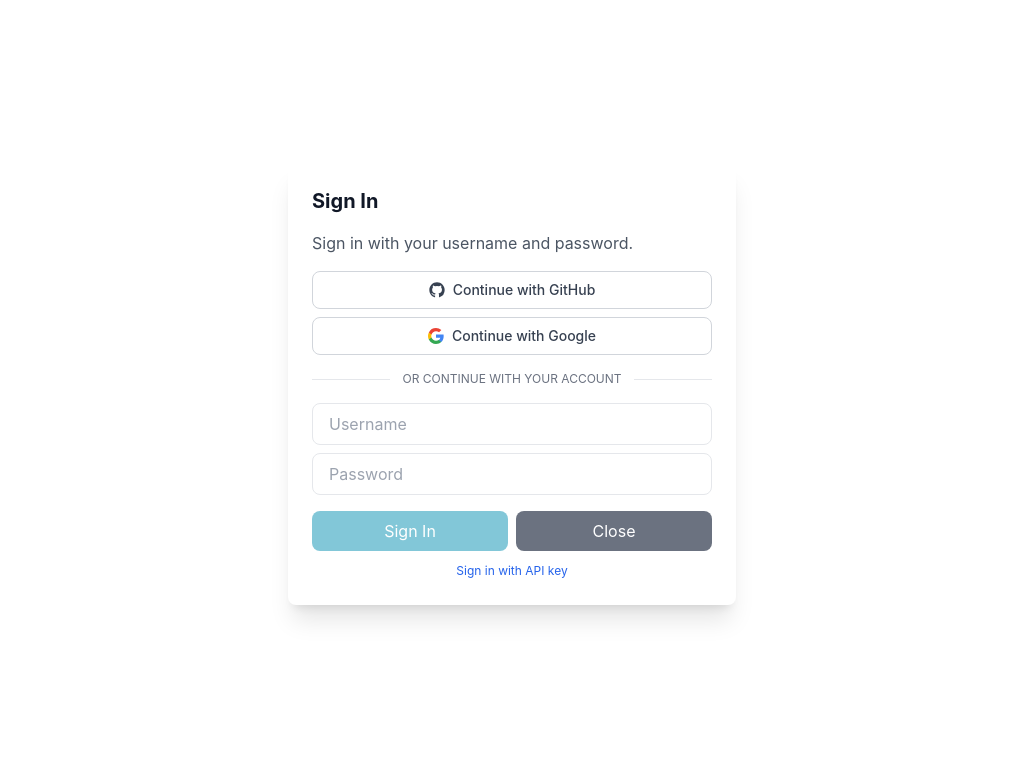
it: LoginScreen › switches to API key mode, logs in with the key, and switches back
Click the button with test id "login-toggle-apikey". click: (512, 571)
box: [312, 563, 712, 579]
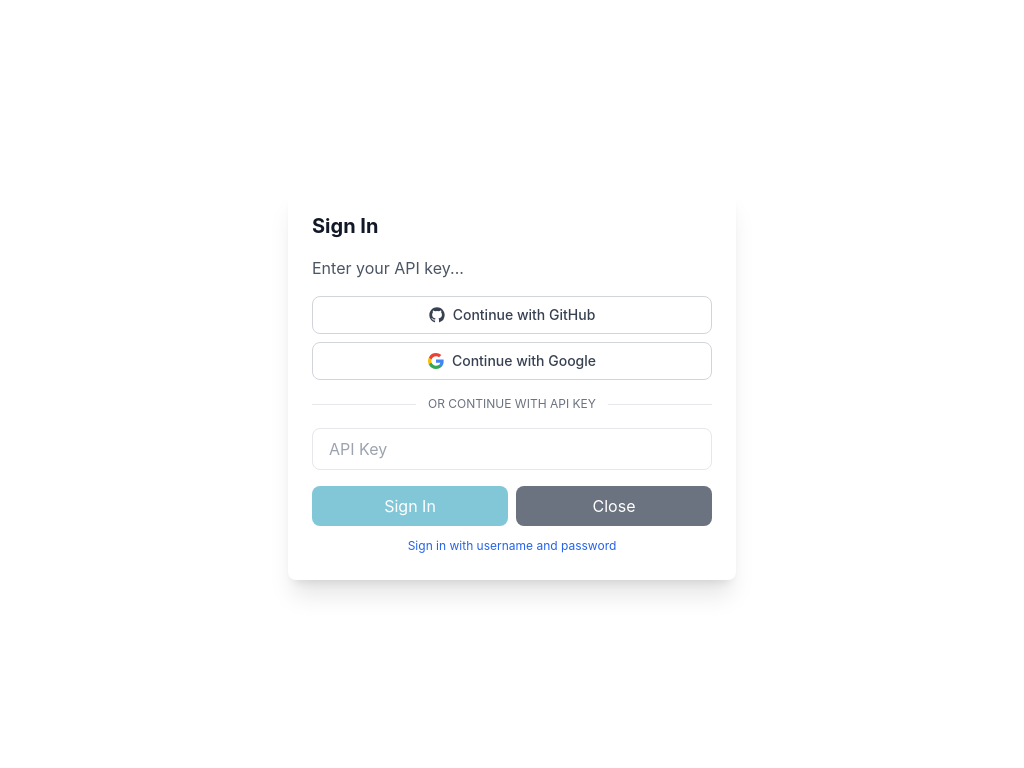
Now the password field with test id "login-apikey" is shown
Type "tasker_sk_live_test" into the password field with test id "login-apikey". click: (512, 449)
box: [312, 428, 712, 470]
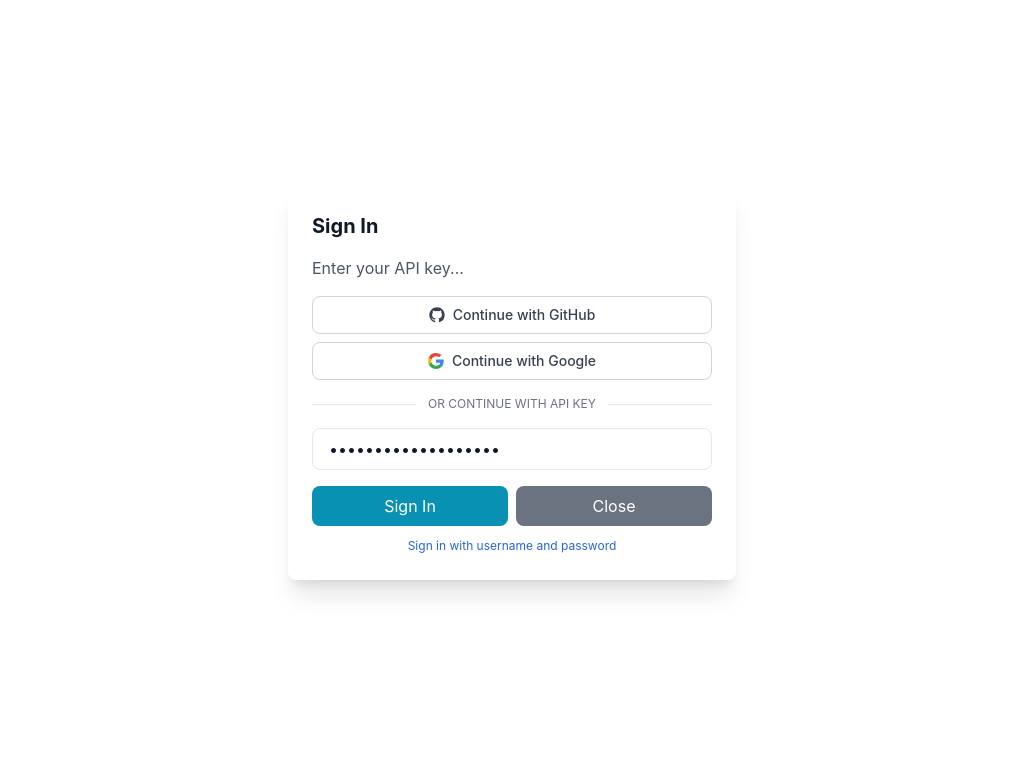
Submit the form, box [312, 428, 712, 556]
Click the button with test id "login-toggle-credentials". click: (512, 546)
box: [312, 538, 712, 554]
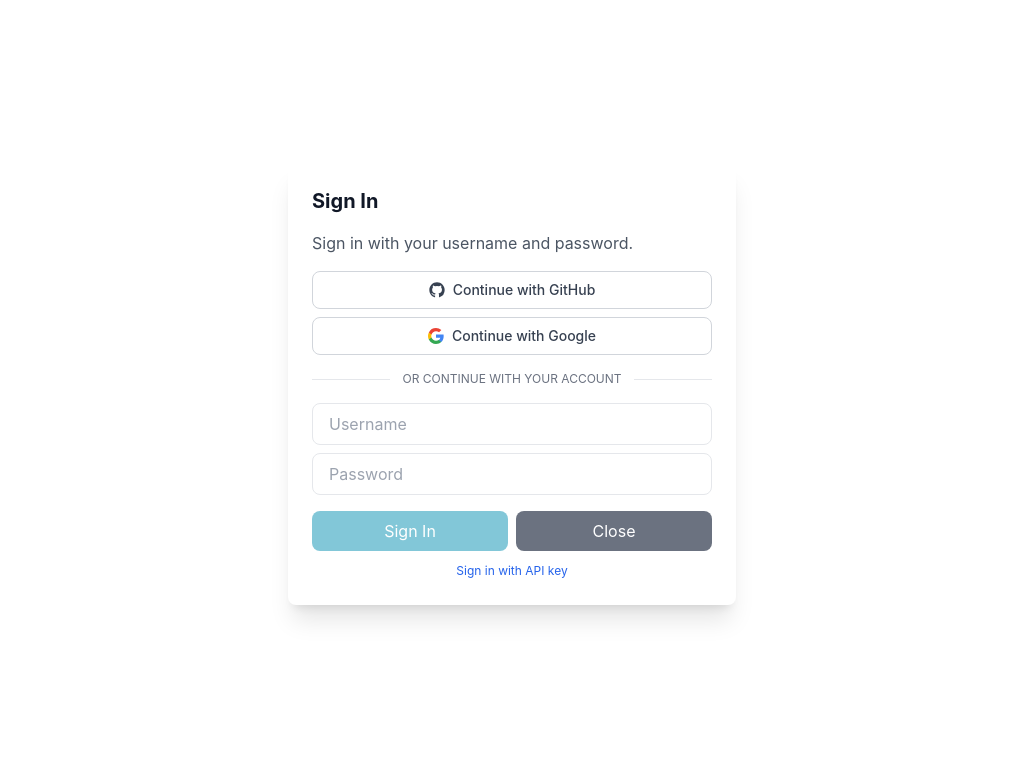
Now the password field with test id "login-password" is shown, box [312, 453, 712, 495]
